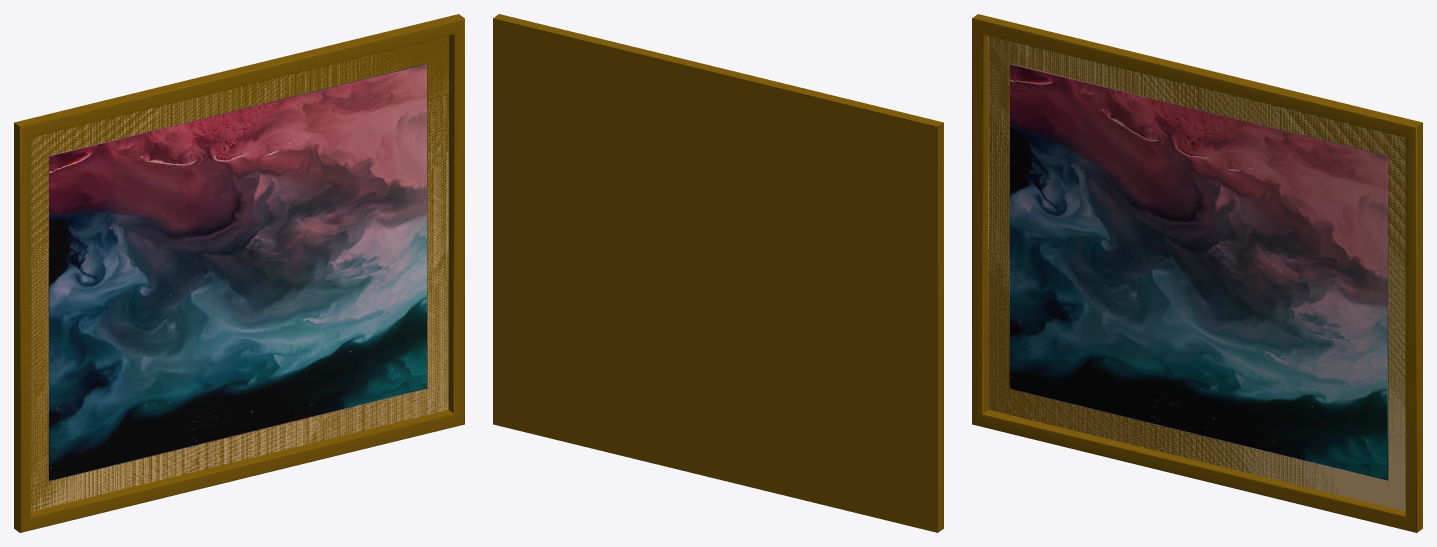
Rendered from wall_panting_1.fbx.
3 renders of one model, left to right at view 1: azimuth 30°, elevation 25°; view 2: azimuth 150°, elevation 25°; view 3: azimuth 330°, elevation 25°, orthographic.
Parts seen in each view (by area): view 1: Object89; view 2: Object89; view 3: Object89.
Part boxes in pixels (bbox=[...]): Object89: bbox=[14, 14, 464, 532]; Object89: bbox=[493, 14, 943, 532]; Object89: bbox=[972, 14, 1422, 532].
Bounding box in the file's own units: 102 × 89 × 2.55.
Materials: 3 (1 with a texture image).
